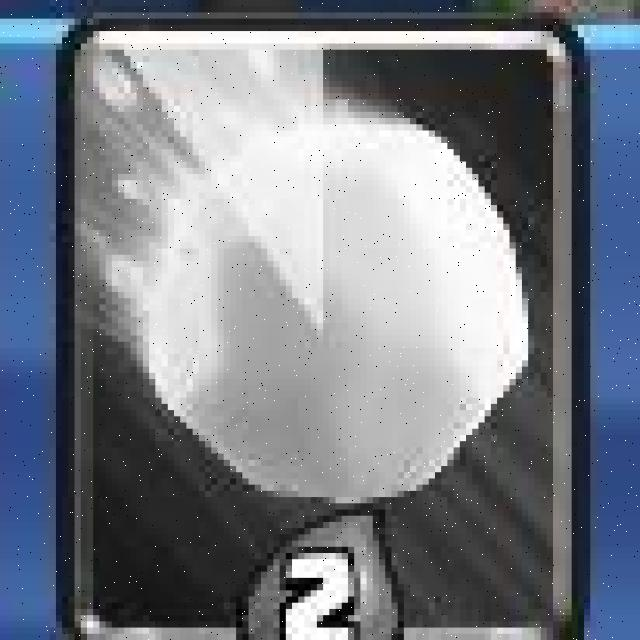Snowball: (52, 10, 587, 640)
